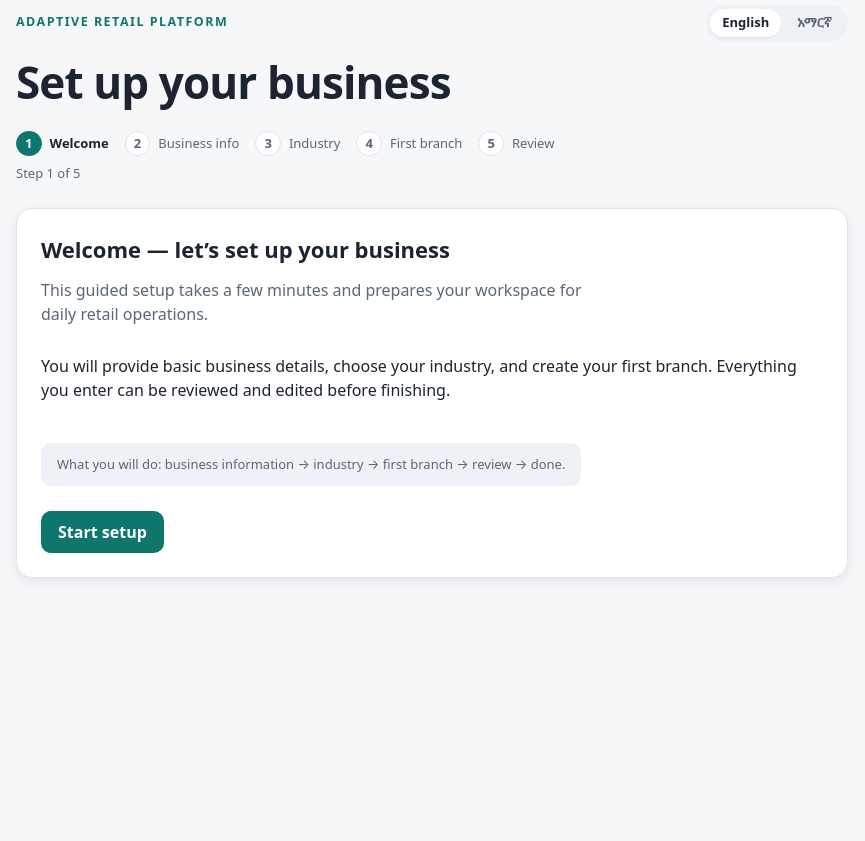
Test: OnboardingPage › requires exactly one industry selection
The image size is (865, 841).
Click the button "Start setup". click: coordinates (102, 532)
box: [41,511,164,553]
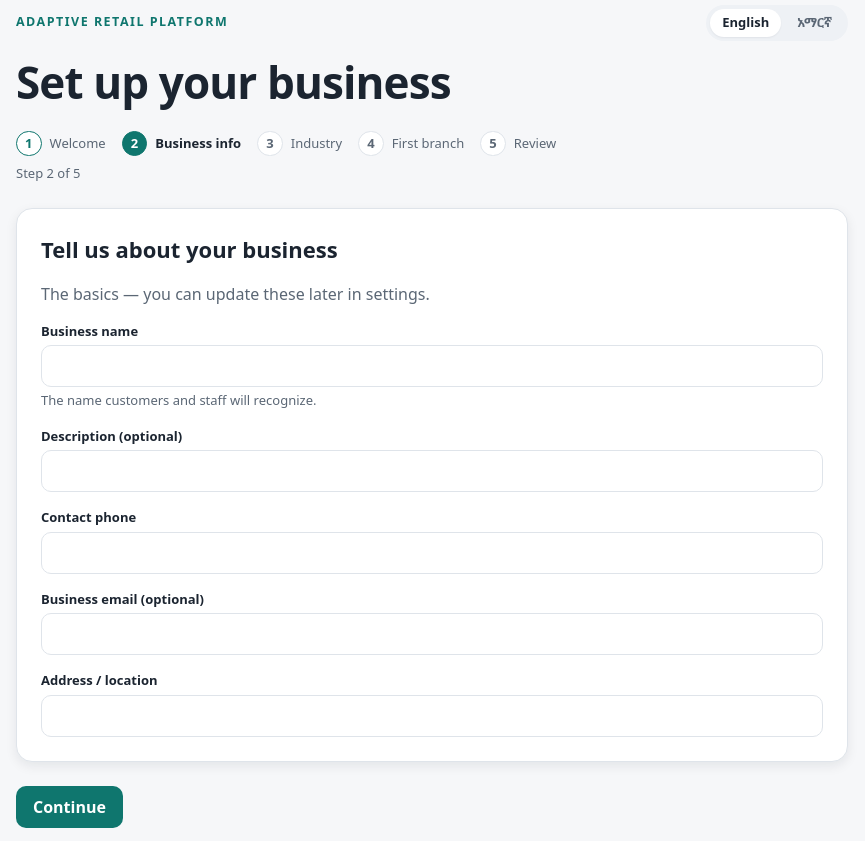
Type "Biz" into the field labelled "Business name". click: coordinates (432, 366)
box: [41,345,823,387]
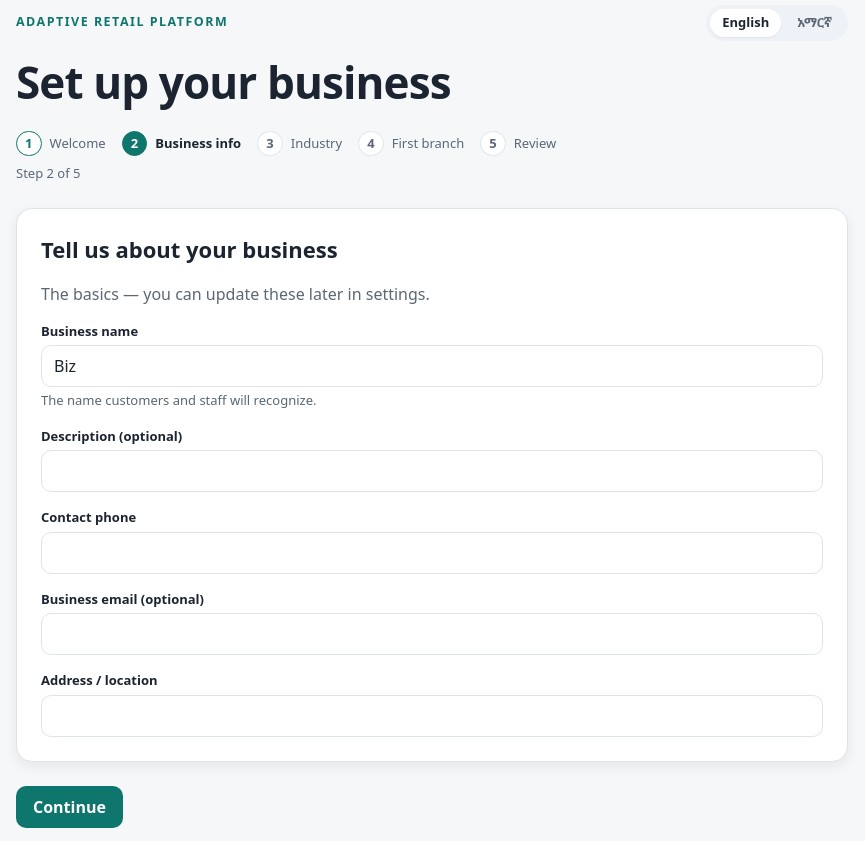
Click the button "Continue". click: coordinates (69, 807)
box: [16,786,123,828]
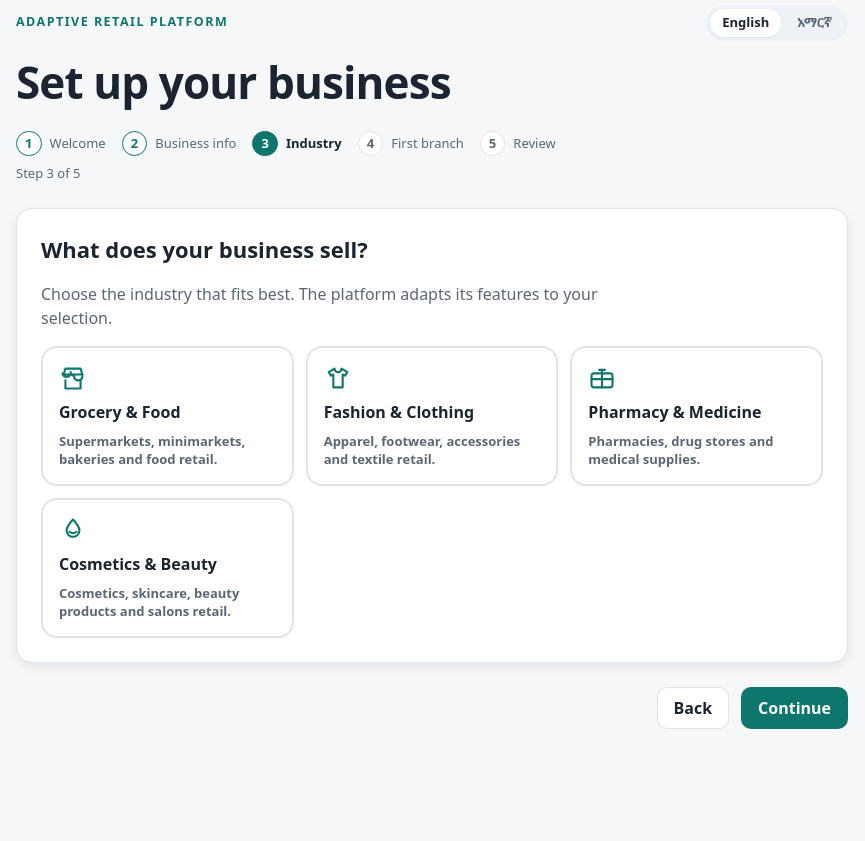
Click the button "Continue". click: coordinates (795, 708)
box: [741,687,848,729]
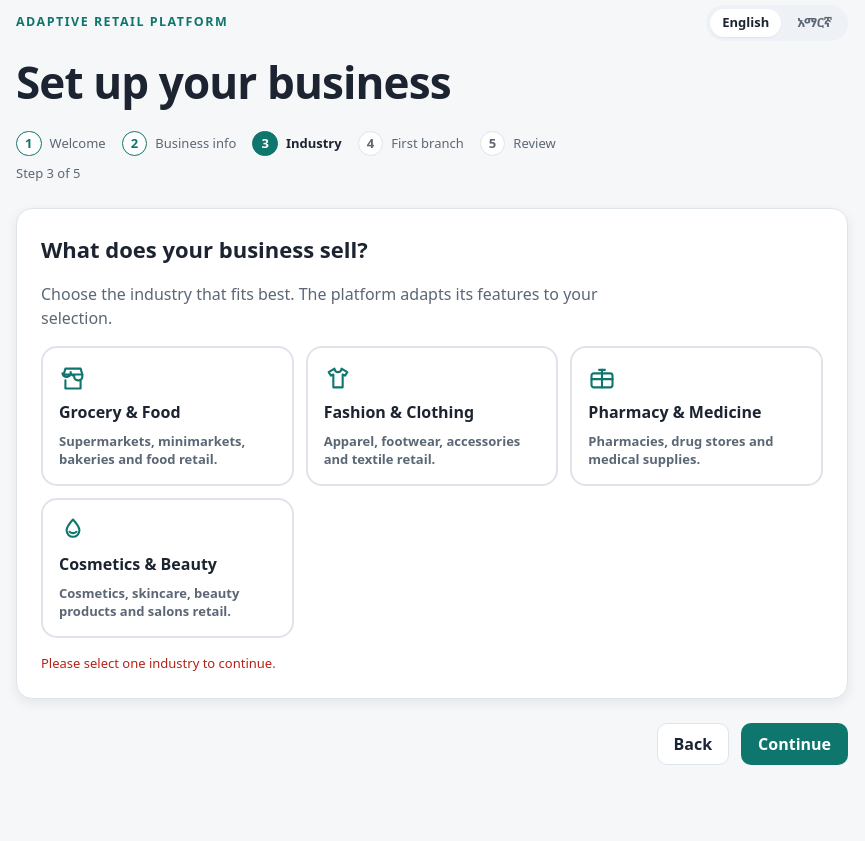
Now the text "Please select one industry to continue." is shown, box [41,654,276,672]
Click the button "Pharmacy & Medicine". click: coordinates (697, 416)
box: [570,346,823,486]
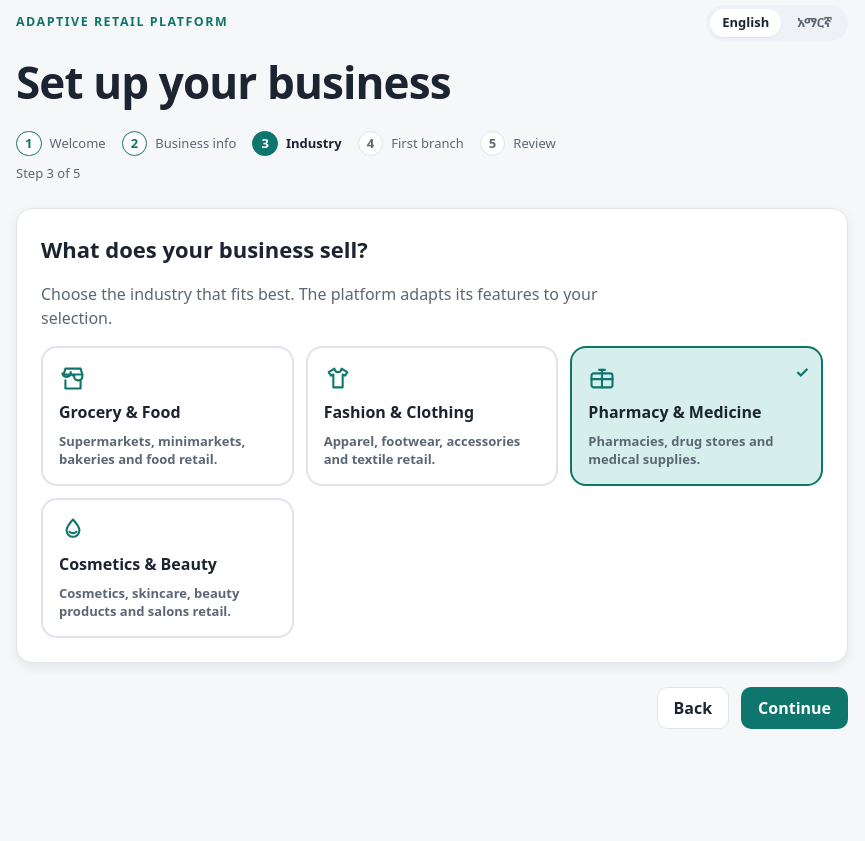
Click the button "Continue". click: coordinates (795, 708)
box: [741,687,848,729]
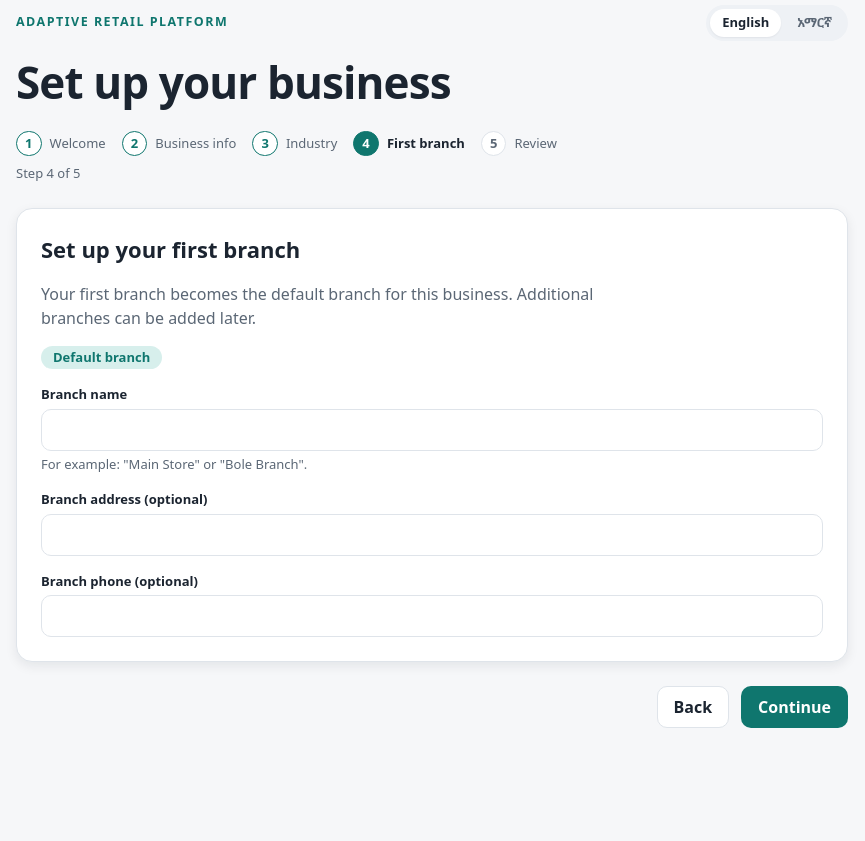
Now the field labelled "Branch name" is shown, box [41,409,823,451]
